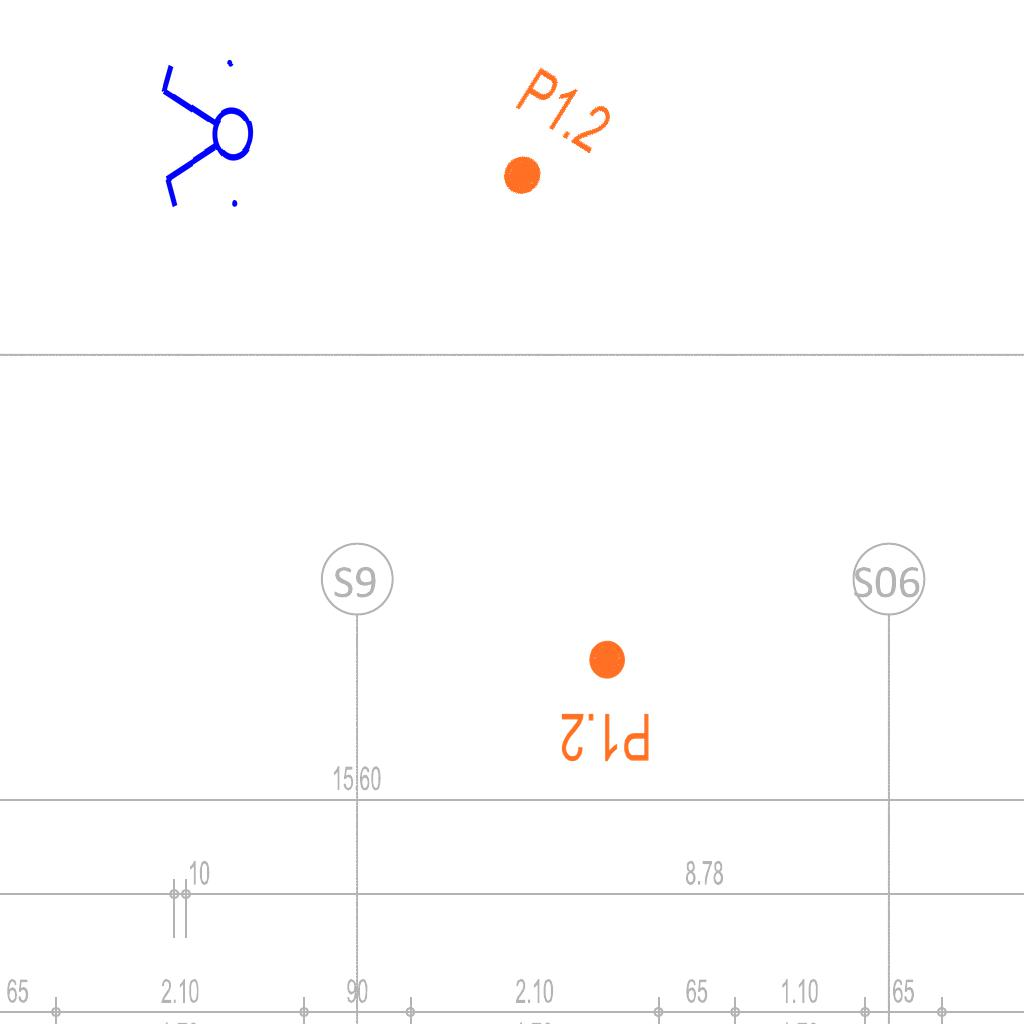Downlight_LED_Einbauleuchten_Flur: (472, 62, 619, 220), (559, 637, 652, 765)
Serienschalter: (156, 50, 258, 222)
